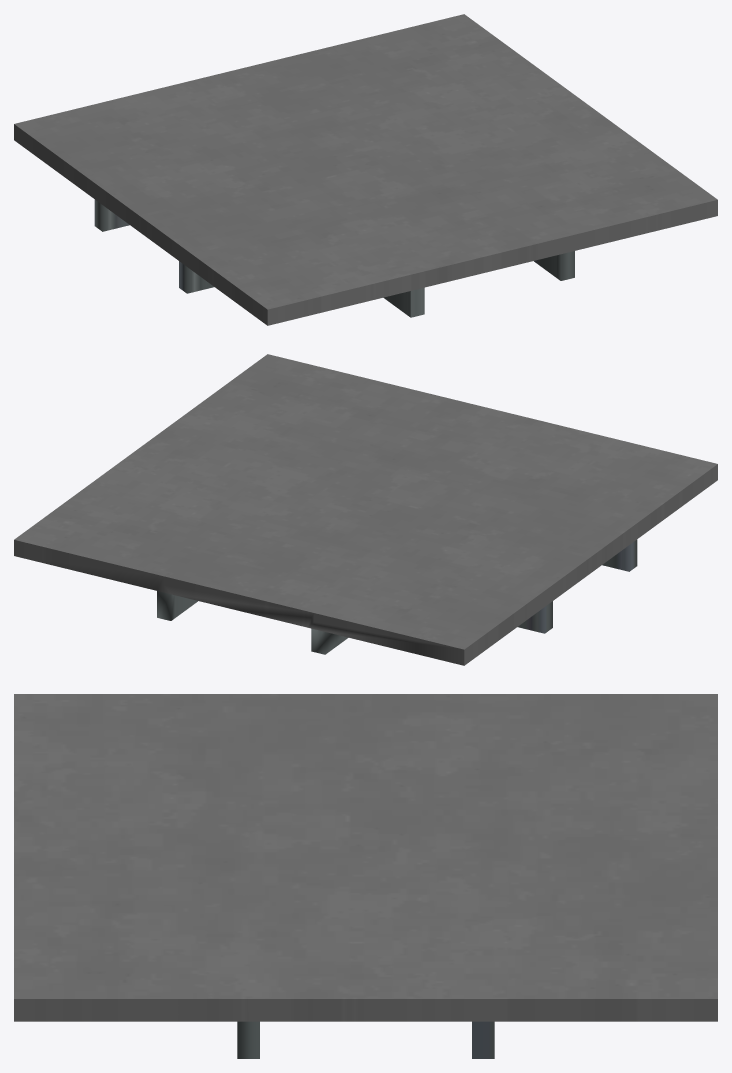
Rendered from Floor_Top.fbx.
The picture shows the model from 3 angles, top to bottom: view 1: azimuth 30°, elevation 25°; view 2: azimuth 150°, elevation 25°; view 3: azimuth 270°, elevation 25°; orthographic projection. The views are drawn at different scales.
Parts seen in each view (by area): view 1: Floor_top; view 2: Floor_top; view 3: Floor_top.
Part boxes in pixels (x1,y1,x2,y2): Floor_top: [14, 14, 717, 325]; Floor_top: [14, 354, 717, 665]; Floor_top: [14, 694, 717, 1058].
Size of the model in its own units: 5.96 by 0.5446 by 5.81.
